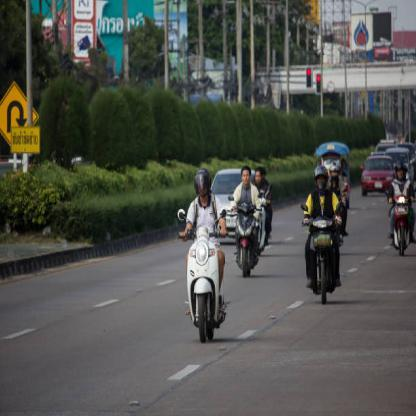Motorcycle: (174, 215, 233, 353), (297, 206, 341, 301), (224, 188, 264, 272), (386, 190, 415, 257)
